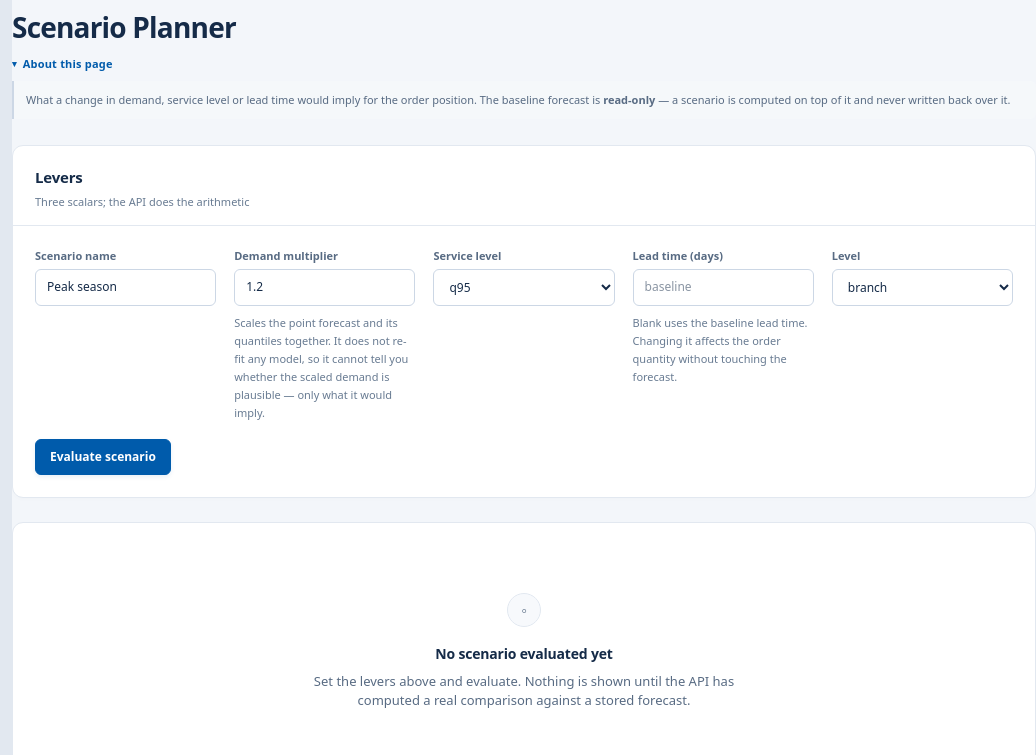
Test: ScenarioPlannerPage › keeps a scope with no baseline forecast, with its reason
Click the button "Evaluate scenario". click: point(103, 457)
box: x1=35 y1=439 x2=171 y2=475
(page scrolled)
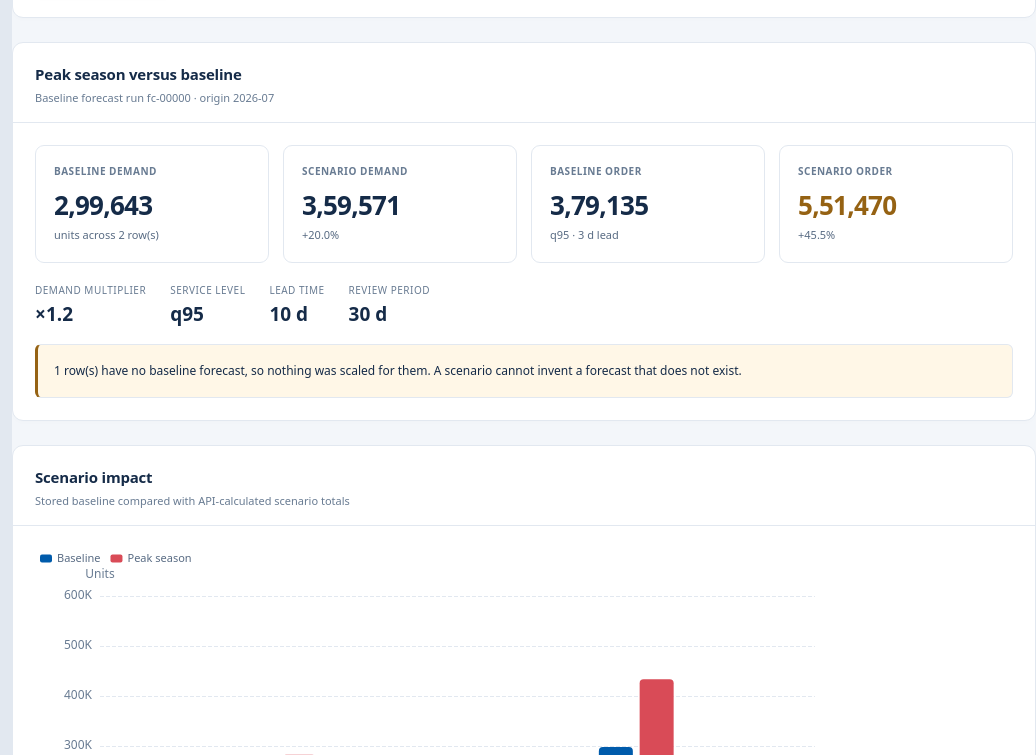
Now the text "1 row(s) have no baseline forecast" is shown, box x1=54 y1=362 x2=742 y2=379
